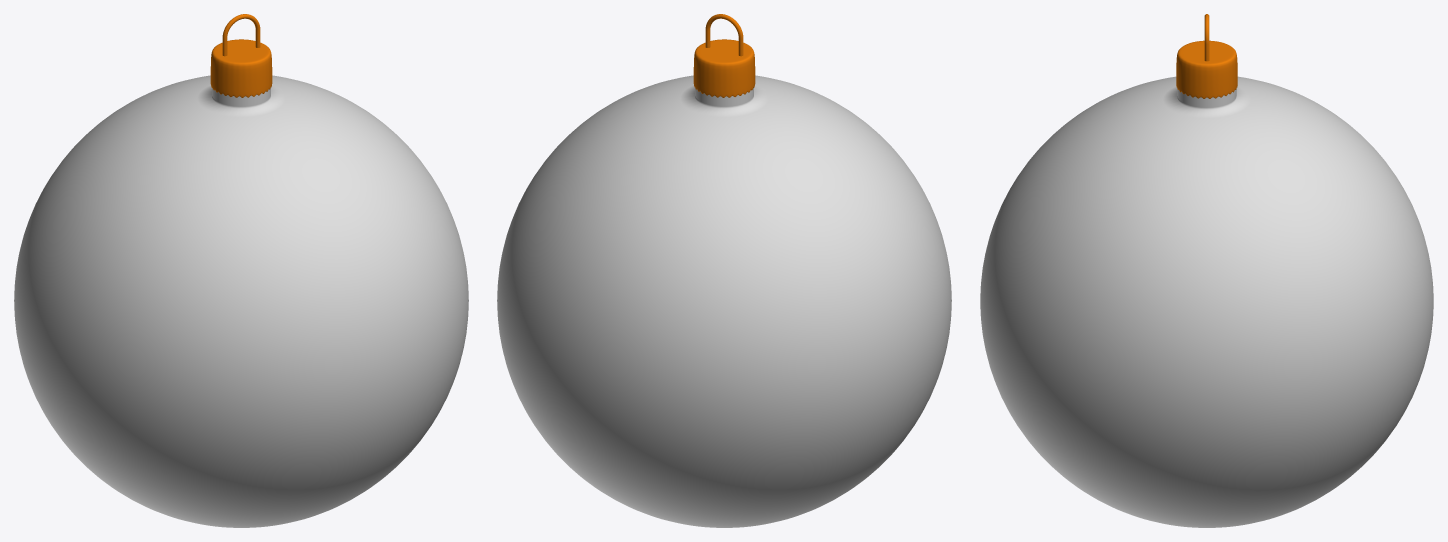
Rendered from ChristmasBall_Silver.fbx.
The picture shows the model from 3 angles, left to right: view 1: azimuth 30°, elevation 25°; view 2: azimuth 150°, elevation 25°; view 3: azimuth 270°, elevation 25°; orthographic projection.
Visible parts, largest first — view 1: Sphere.004; view 2: Sphere.004; view 3: Sphere.004.
Part boxes in pixels (x1,y1,x2,y2): Sphere.004: [14, 14, 468, 527]; Sphere.004: [497, 14, 951, 527]; Sphere.004: [980, 14, 1433, 527].
Size of the model in its own units: 200 by 239 by 200.
